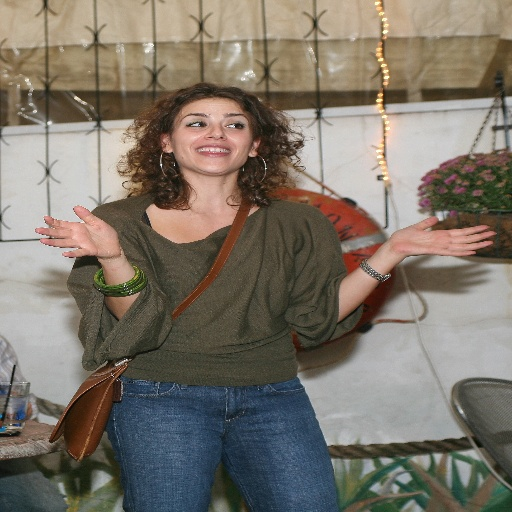hand: (361, 216, 496, 274), (32, 202, 123, 258)
